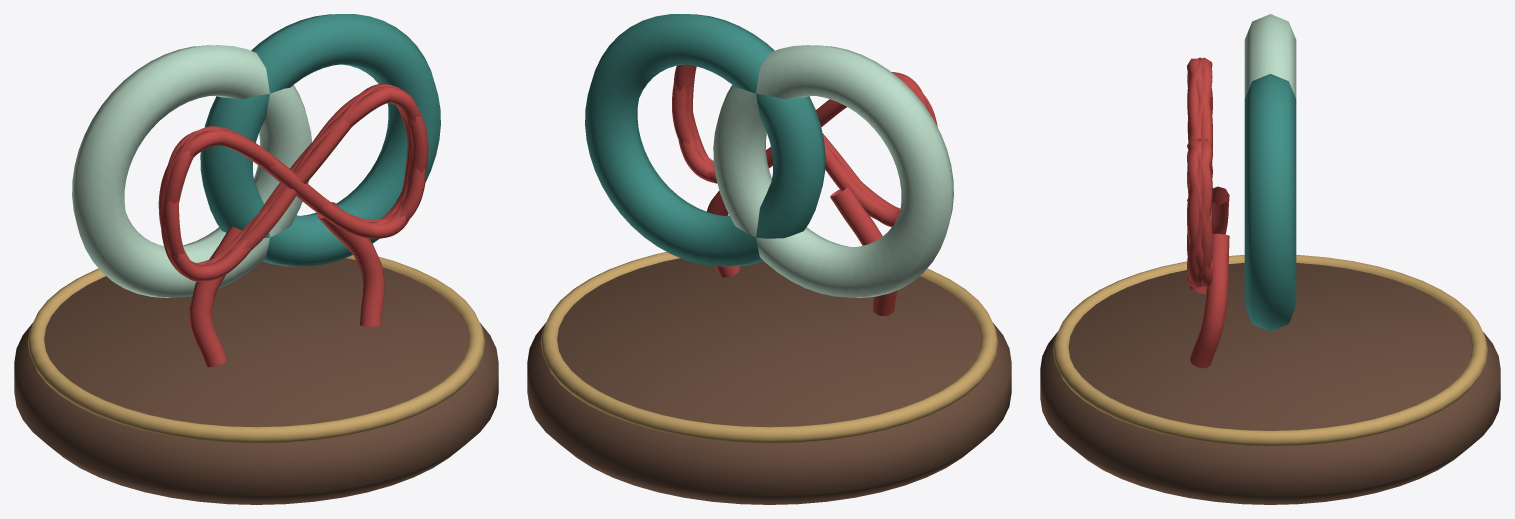
File: redthread.glb
3 views of the same model, side by side, from view 1: azimuth 30°, elevation 25°; view 2: azimuth 150°, elevation 25°; view 3: azimuth 270°, elevation 25° (orthographic). The views are drawn at different scales.
Parts seen in each view (by area): view 1: redthread_Walnut carved edge, redthread_Celadon milk glaze, redthread_Glazed teal porcelain, redthread_Vermilion braided silk, redthread_Brushed champagne brass; view 2: redthread_Walnut carved edge, redthread_Celadon milk glaze, redthread_Glazed teal porcelain, redthread_Brushed champagne brass, redthread_Vermilion braided silk; view 3: redthread_Walnut carved edge, redthread_Glazed teal porcelain, redthread_Brushed champagne brass, redthread_Vermilion braided silk, redthread_Celadon milk glaze.
Part boxes in pixels (<box>): redthread_Walnut carved edge: <box>14,258,498,504</box>; redthread_Celadon milk glaze: <box>72,45,311,297</box>; redthread_Glazed teal porcelain: <box>200,14,440,266</box>; redthread_Vermilion braided silk: <box>158,83,428,367</box>; redthread_Brushed champagne brass: <box>27,255,485,443</box>; redthread_Walnut carved edge: <box>527,258,1011,504</box>; redthread_Celadon milk glaze: <box>713,45,953,297</box>; redthread_Glazed teal porcelain: <box>585,14,825,266</box>; redthread_Brushed champagne brass: <box>540,252,998,443</box>; redthread_Vermilion braided silk: <box>672,64,937,315</box>; redthread_Walnut carved edge: <box>1040,263,1500,504</box>; redthread_Glazed teal porcelain: <box>1244,74,1296,331</box>; redthread_Brushed champagne brass: <box>1053,255,1487,446</box>; redthread_Vermilion braided silk: <box>1187,57,1229,368</box>; redthread_Celadon milk glaze: <box>1244,14,1296,98</box>.
Size of the model in its own units: 0.98 by 0.8448 by 0.98.
